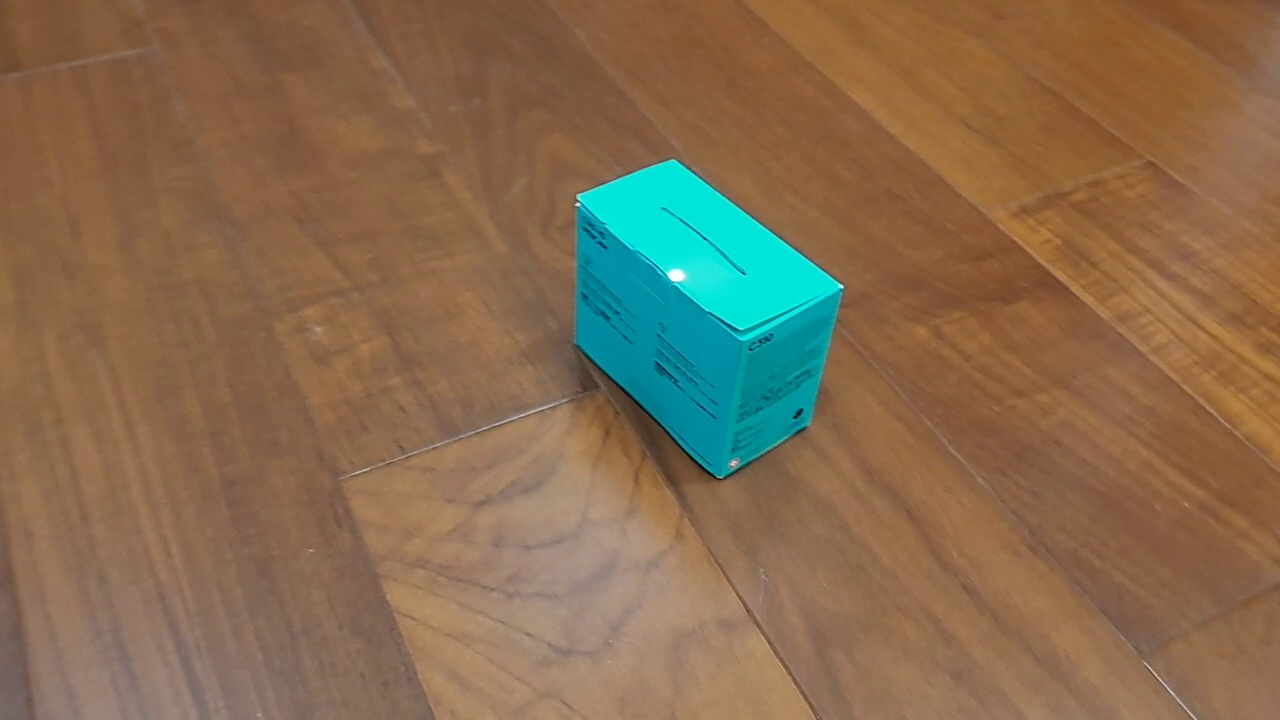webcam: (572, 158, 845, 481)
